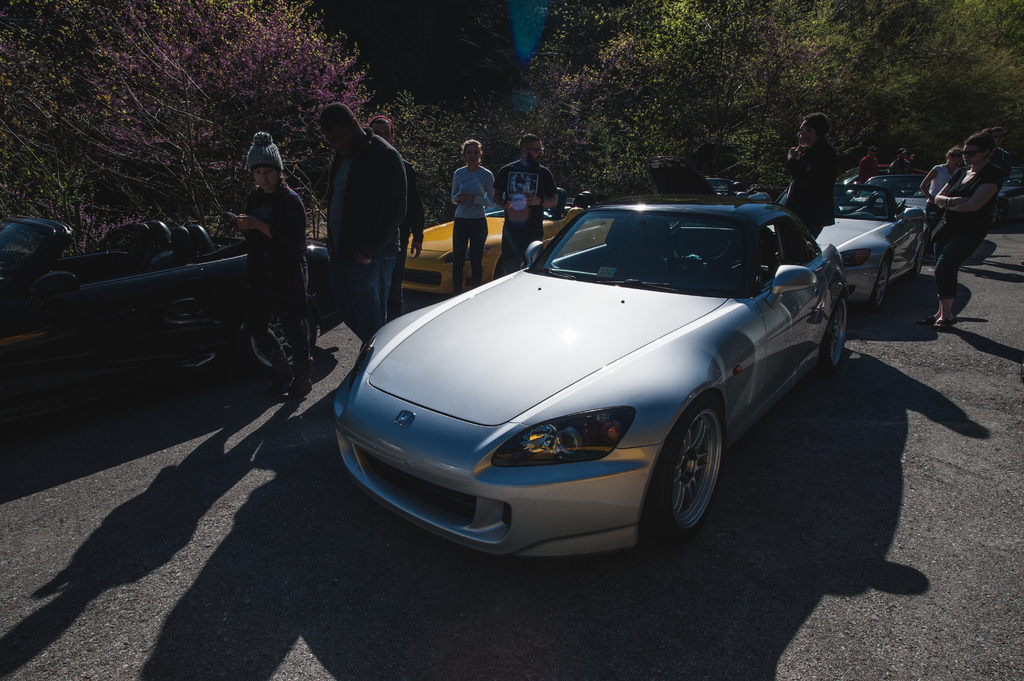mobil: (346, 191, 866, 564)
